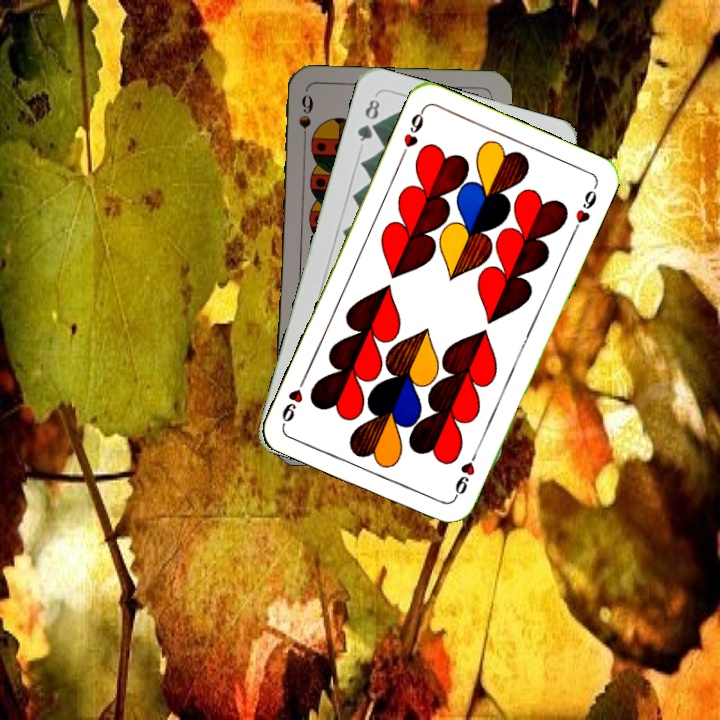G8: (353, 95, 383, 144)
H9: (450, 445, 481, 501), (397, 104, 427, 161)
S9: (295, 91, 315, 149)
